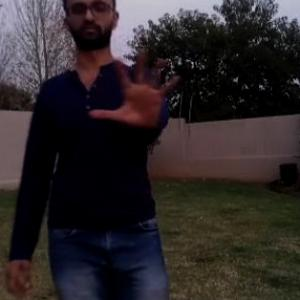follow_hand: (87, 38, 194, 135)
